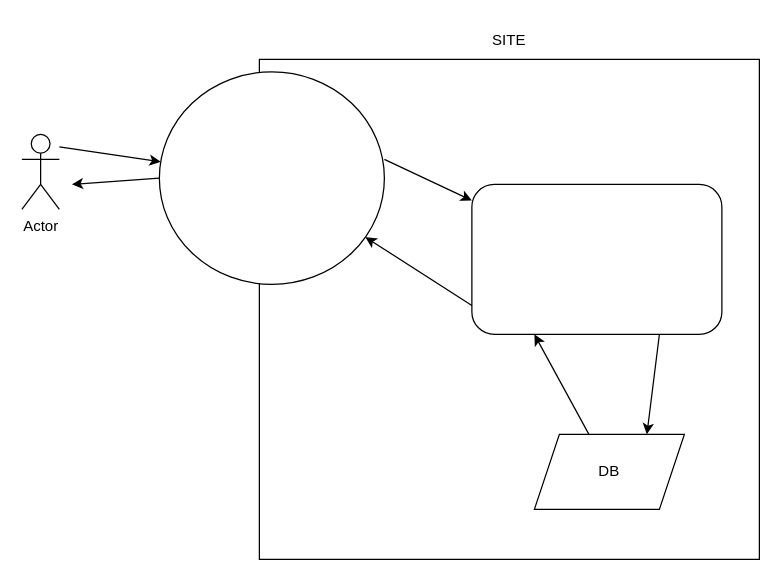
The diagram is 781 pixels wide and 581 high, and some of its shapes have lost their labels. Each missing label, with the box of its shape:
BE, API: (471, 183, 722, 334)
FE: (158, 71, 384, 284)
